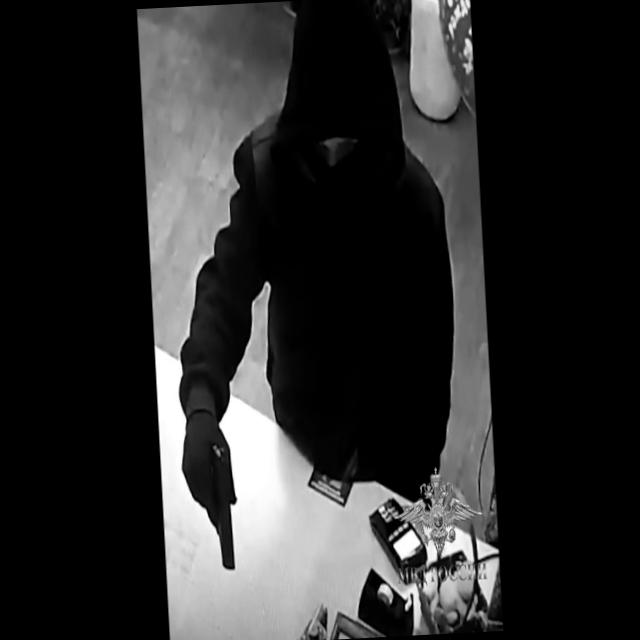gun: (181, 394, 244, 578)
person with a gun: (158, 0, 469, 581)
